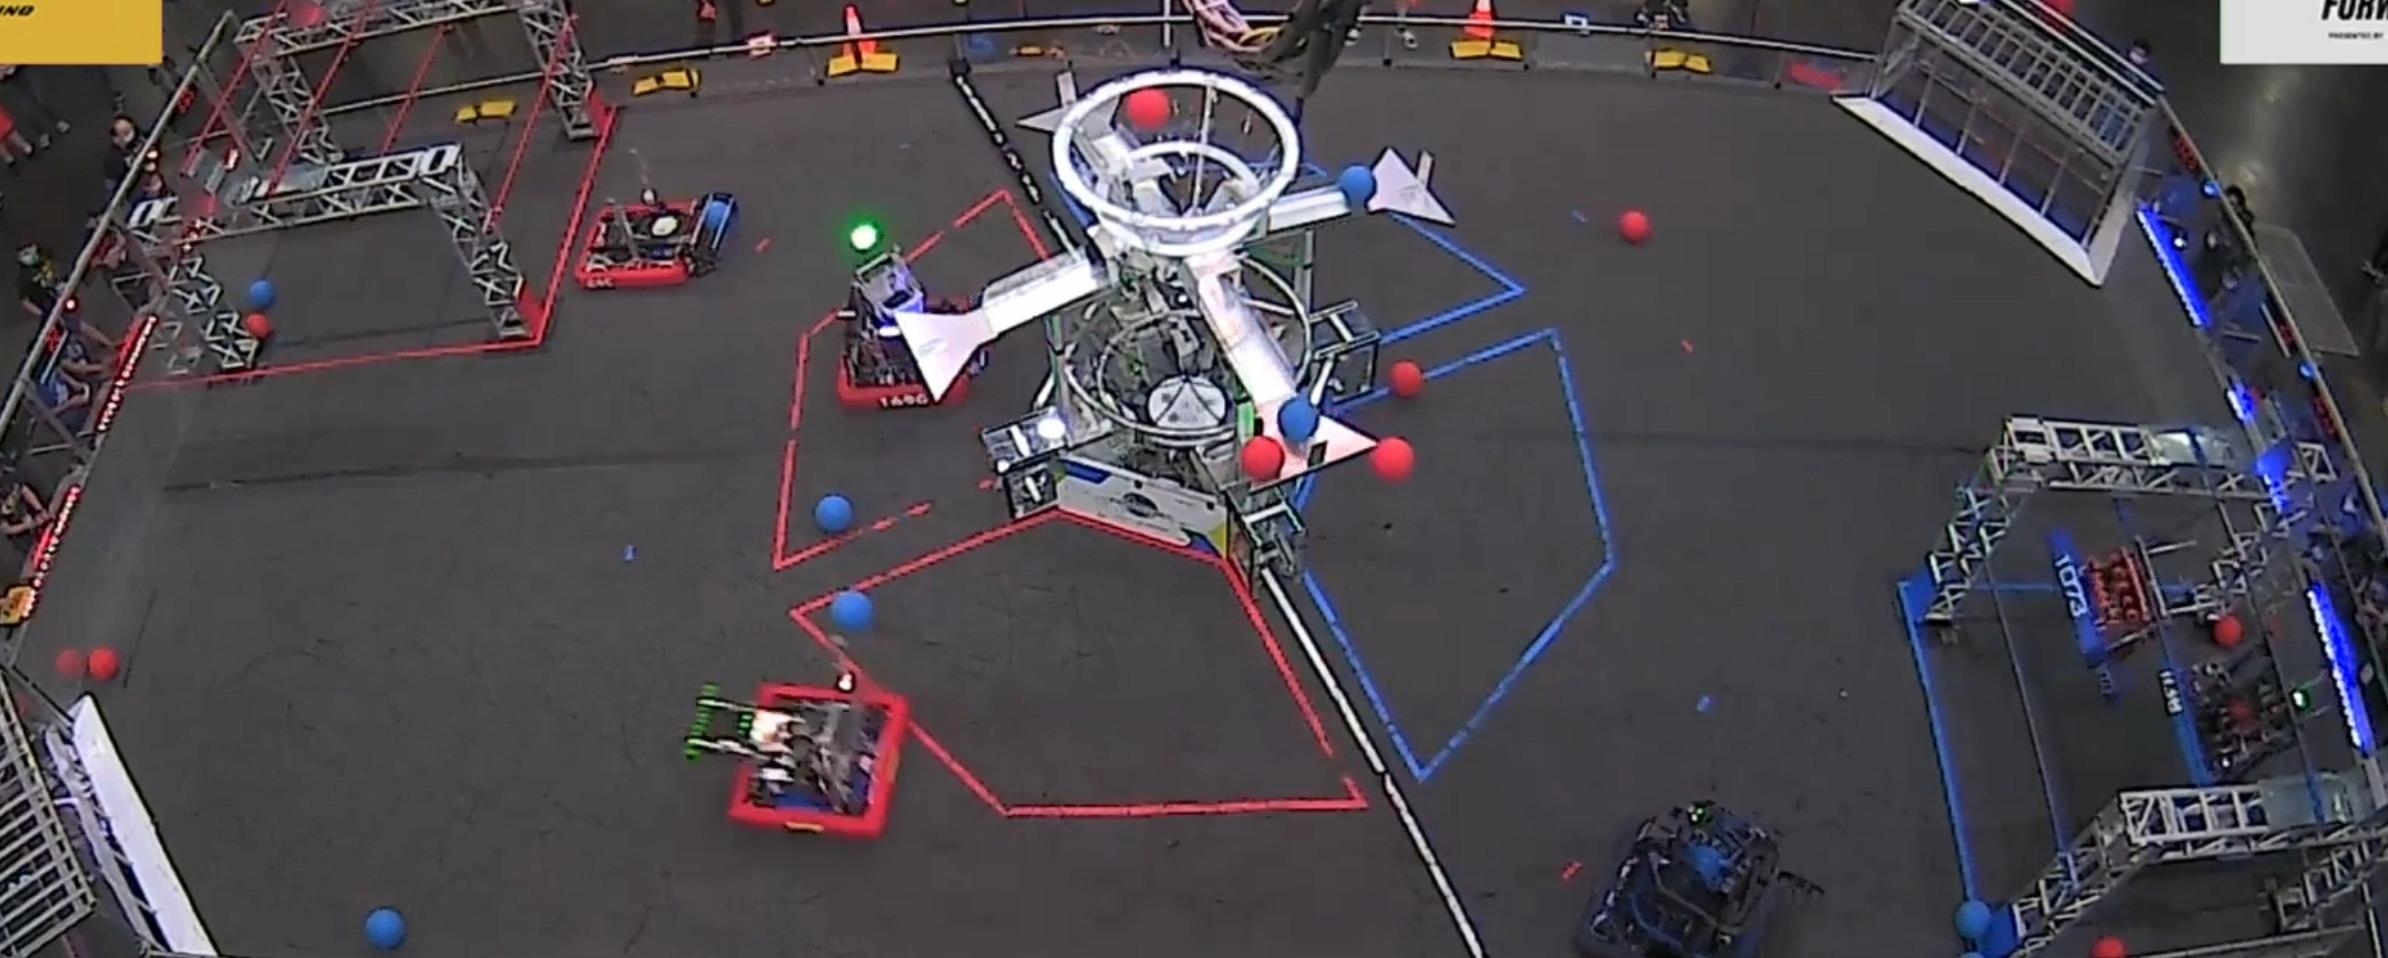Robots: (2027, 507, 2292, 656), (1575, 795, 1808, 953), (694, 679, 902, 836), (2147, 650, 2367, 789), (836, 247, 988, 407), (570, 143, 726, 288)
